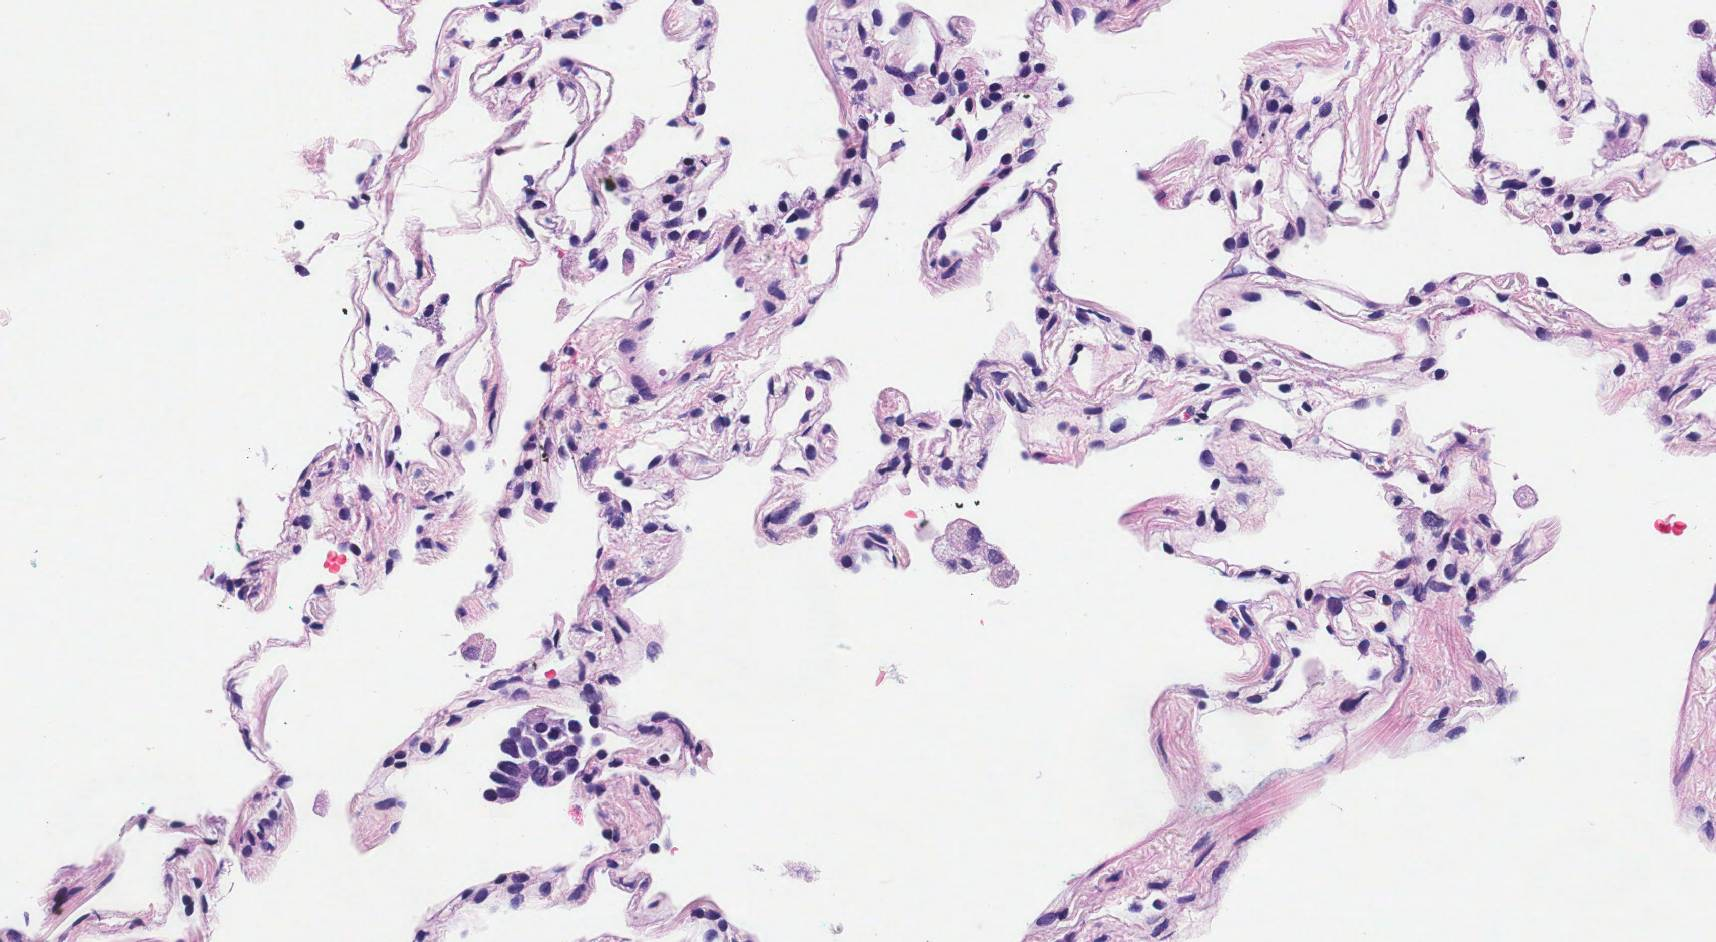stas: (483, 707, 586, 804)
